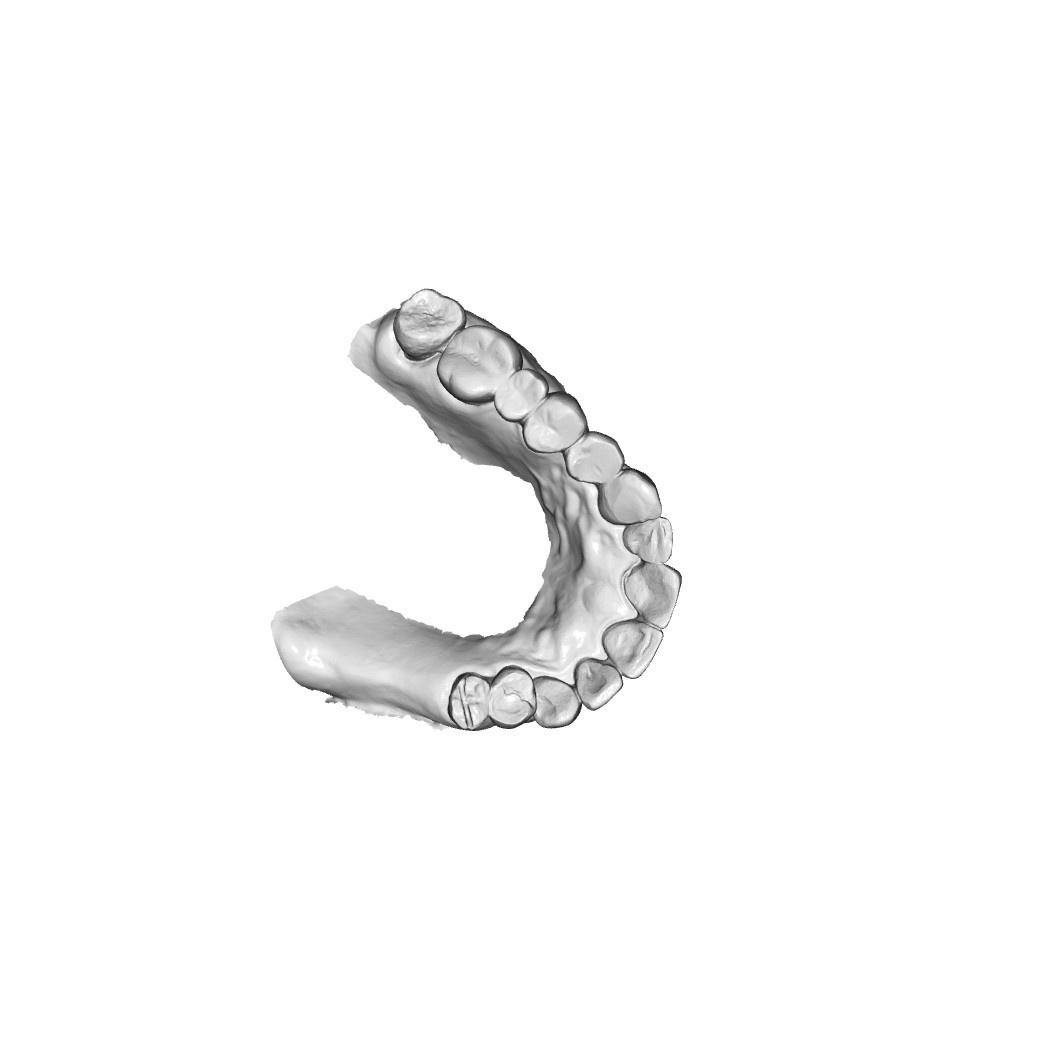canine: (594, 468, 651, 525), (532, 677, 578, 725)
incisor: (630, 561, 683, 629), (609, 622, 658, 669), (579, 657, 622, 709), (631, 520, 675, 566)
molar: (441, 325, 509, 397), (393, 288, 463, 351)
premolar: (527, 394, 588, 457), (446, 670, 496, 736), (488, 669, 531, 729), (568, 434, 618, 483), (498, 369, 541, 415)
